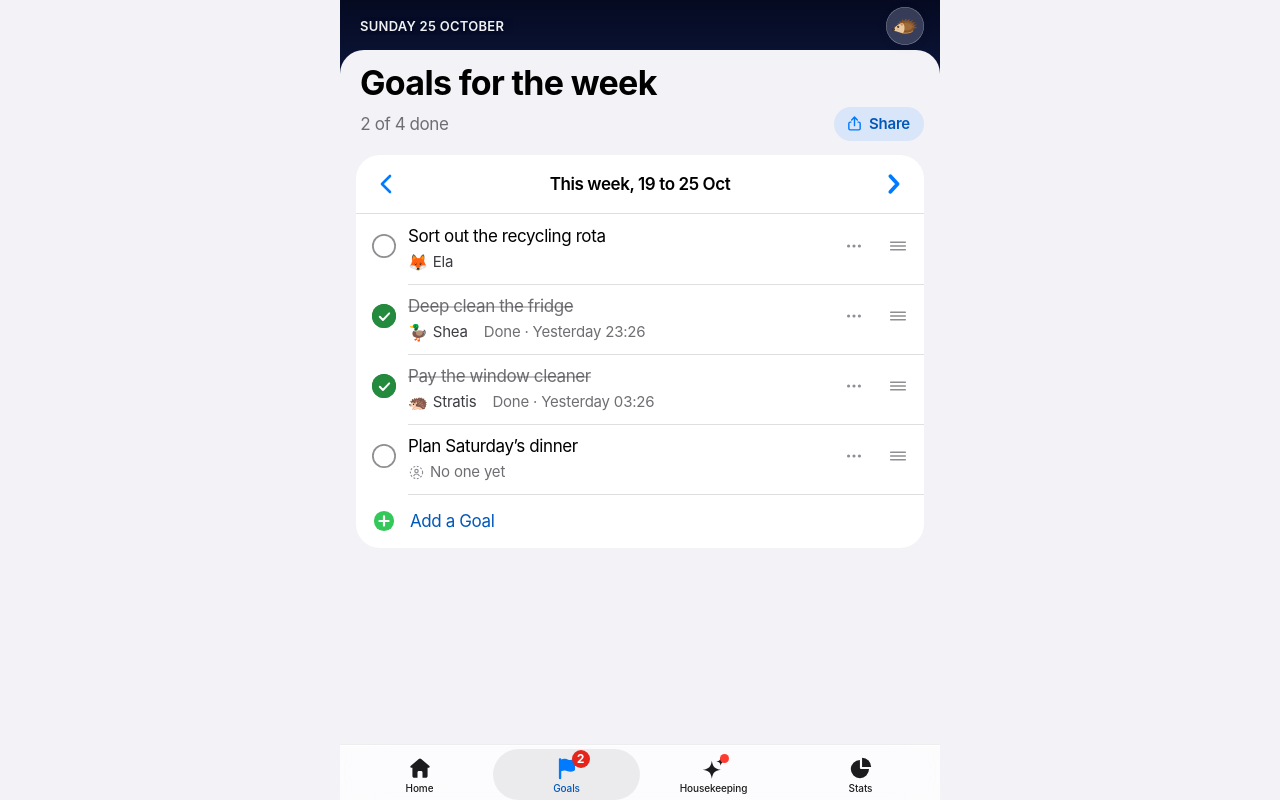
Goals for the week › ticks and unticks: who and when, and the count follows
Expected: the heading "Goals for the week" is shown, [360, 62, 657, 103]
Click the checkbox named "Plan Saturday’s dinner": x=384, y=456 [360, 430, 408, 482]
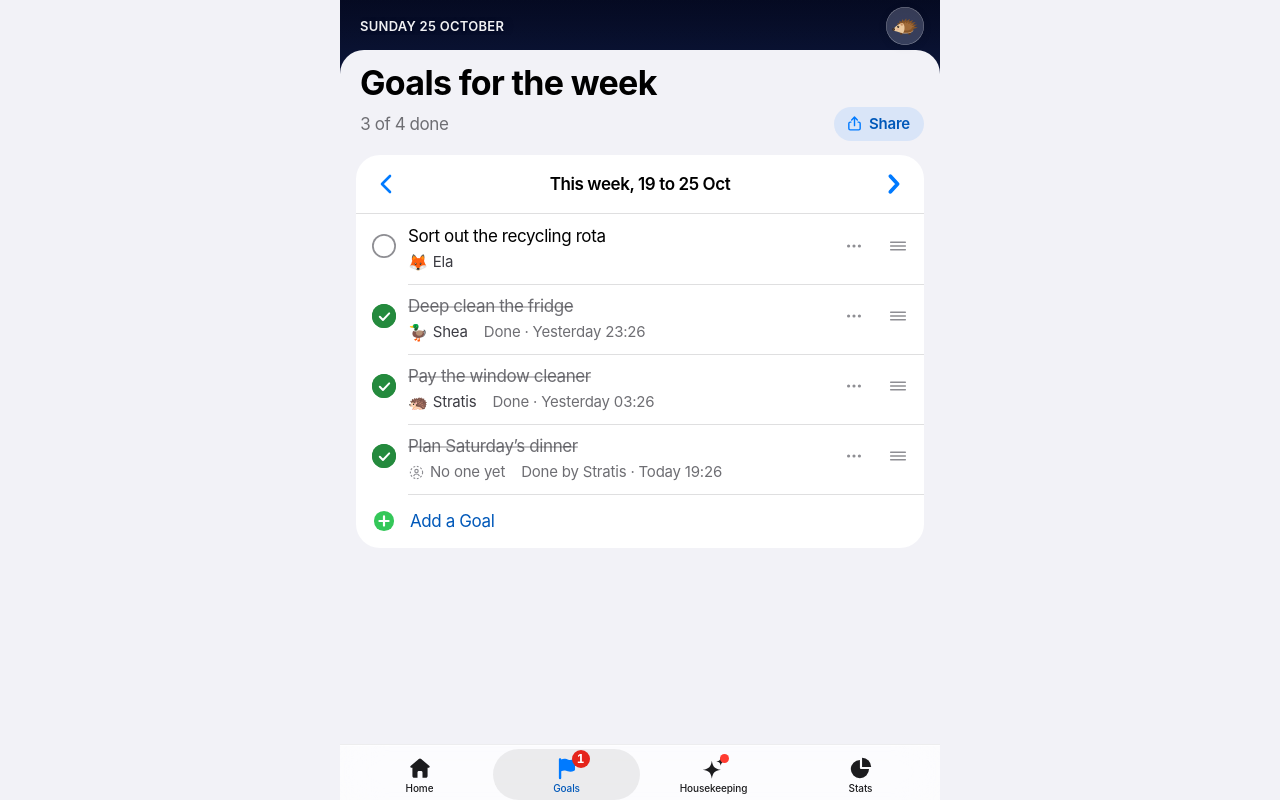
Expected: the text "3 of 4 done" is shown, [360, 114, 448, 134]
Expected: the text "Done by Stratis · Today 19:26" is shown, [521, 462, 722, 482]
Click the checkbox named "Plan Saturday’s dinner": x=384, y=456 [360, 430, 408, 482]
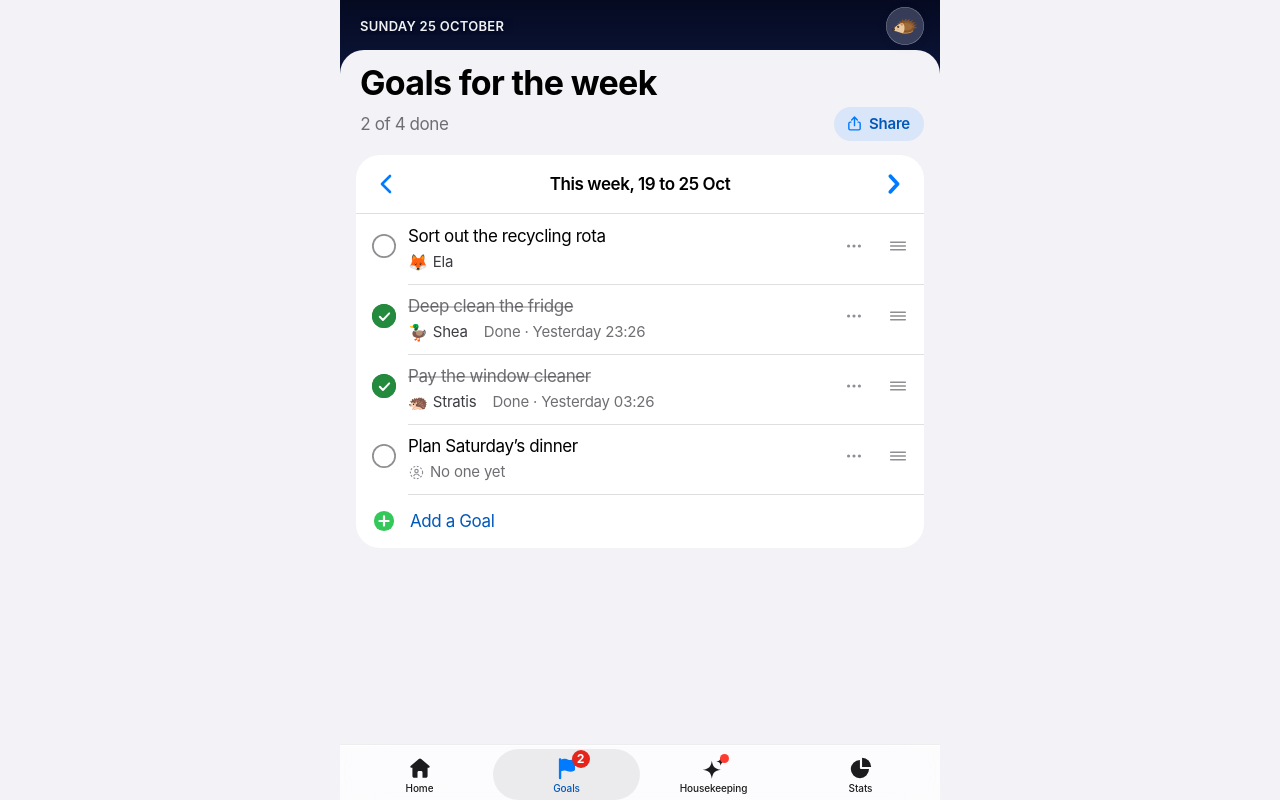
Expected: the text "2 of 4 done" is shown, [360, 114, 448, 134]
